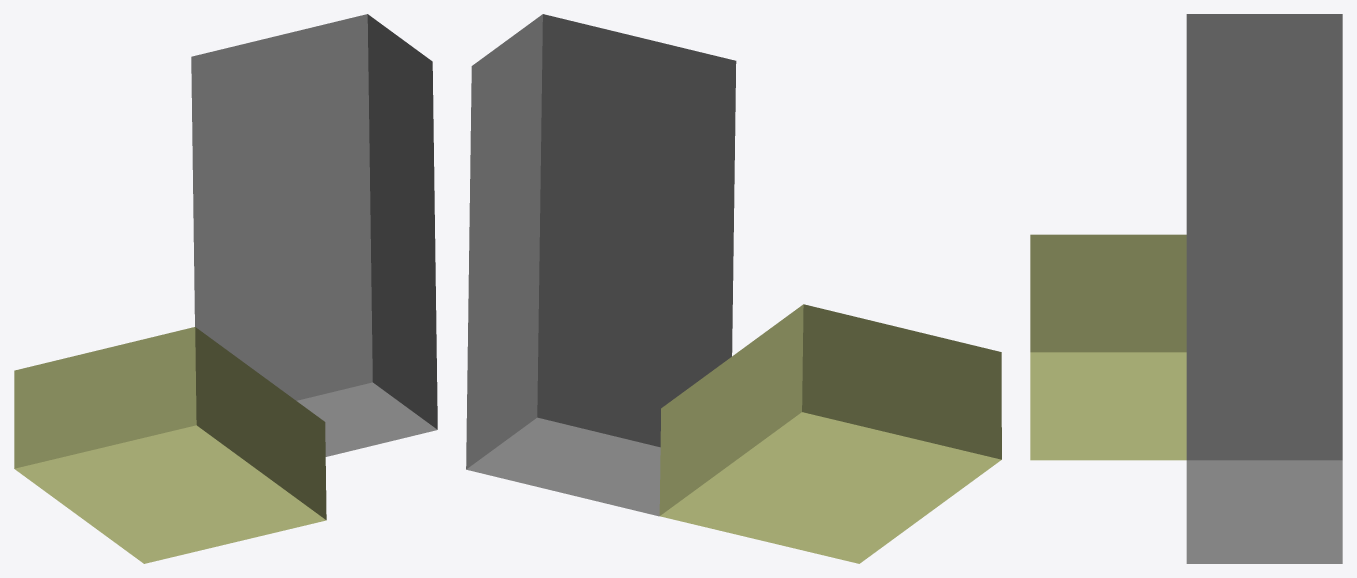
The picture shows the model from 3 angles, left to right: view 1: azimuth 30°, elevation 25°; view 2: azimuth 150°, elevation 25°; view 3: azimuth 270°, elevation 25°; orthographic projection. The views are drawn at different scales.
Parts seen in each view (by area): view 1: 0_2_1_3_3_3_1_2_3_2; view 2: 0_2_1_3_3_3_1_2_3_2; view 3: 0_2_1_3_3_3_1_2_3_2.
Part boxes in pixels (bbox=[...]): 0_2_1_3_3_3_1_2_3_2: bbox=[14, 14, 437, 563]; 0_2_1_3_3_3_1_2_3_2: bbox=[466, 14, 1001, 563]; 0_2_1_3_3_3_1_2_3_2: bbox=[1030, 14, 1342, 563].
Size of the model in its own units: 9.56 by 9.42 by 6.01.
